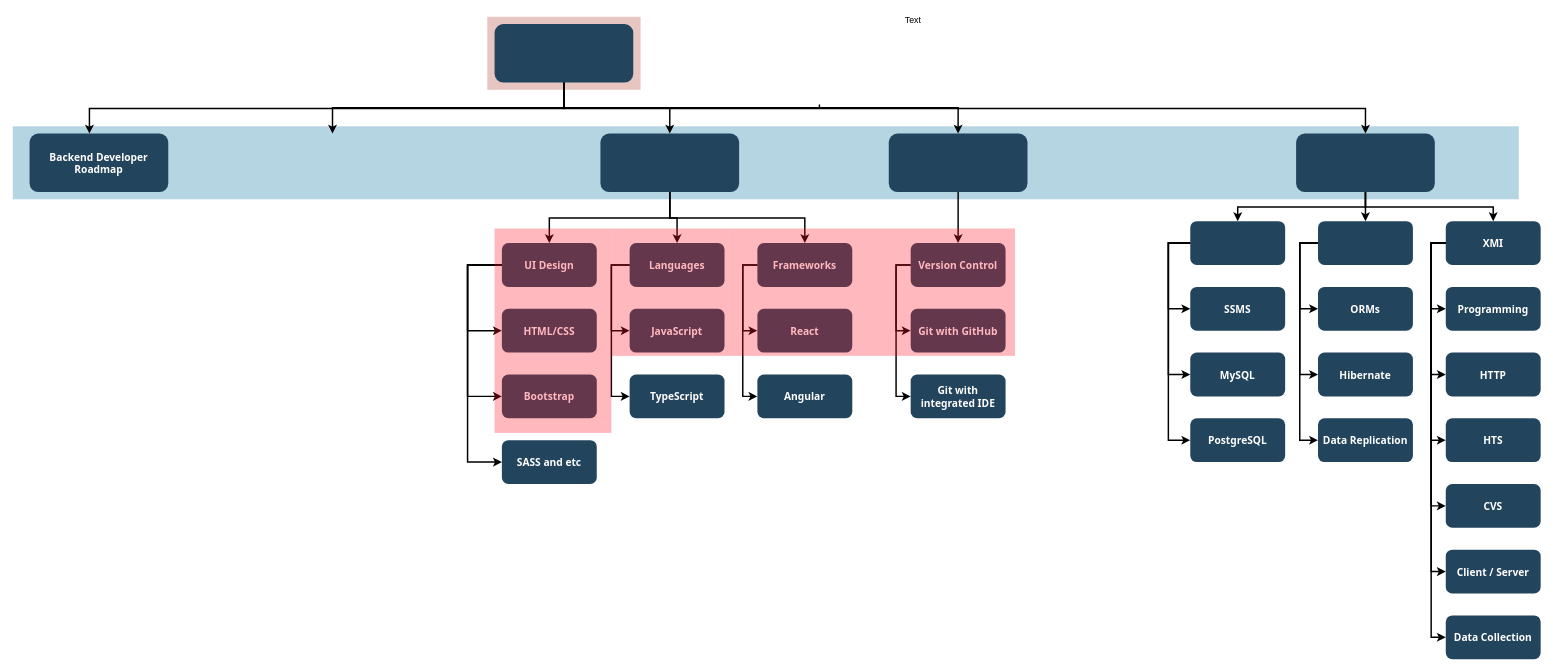
Some shapes in this 1553 by 672 pixel diagram are drawn without their labels. The shapes that lost their labels are listed below. From the top down, each one's centre as x and y in pixels, then its label:
the point at 563,53: Full Stack Developer RoadMap
the point at 669,162: Frontend Developer
the point at 957,162: Technical Tools
the point at 1365,162: Database Management
the point at 1237,243: Databases
the point at 1365,243: TOOLS
